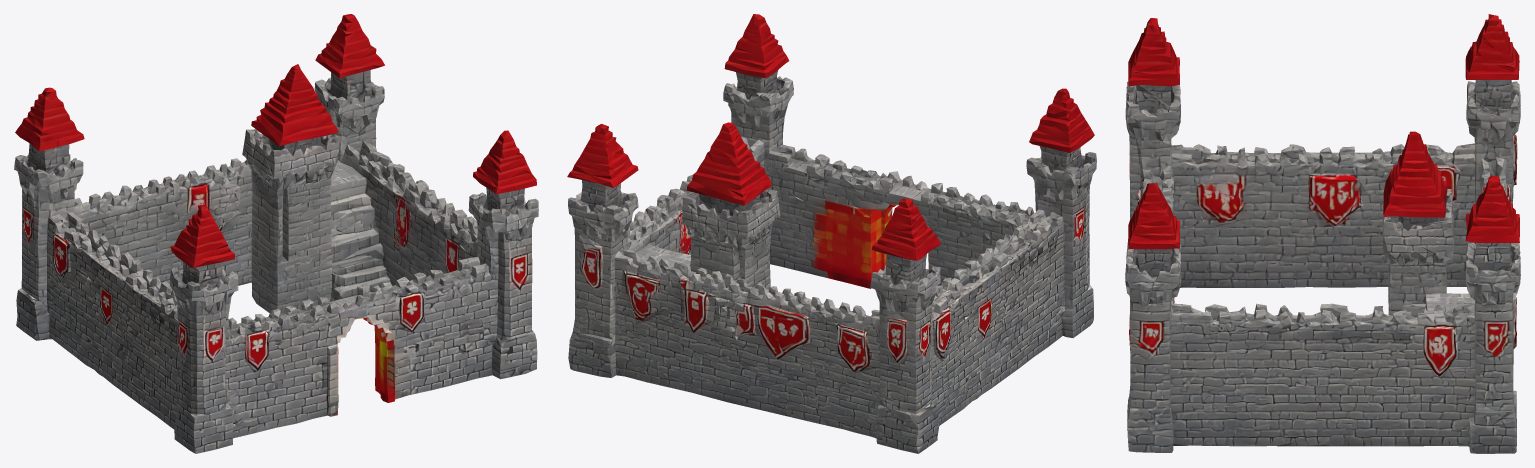
File: compound_red.glb
3 views of the same model, side by side, from view 1: azimuth 30°, elevation 25°; view 2: azimuth 150°, elevation 25°; view 3: azimuth 270°, elevation 25° (orthographic). The views are drawn at different scales.
Parts seen in each view (by area): view 1: Mesh; view 2: Mesh; view 3: Mesh.
Part boxes in pixels (<box>): Mesh: <box>14,14,538,453</box>; Mesh: <box>567,14,1096,453</box>; Mesh: <box>1125,14,1520,453</box>.
Bounding box in the file's own units: 1.9 × 1.25 × 1.68.
Materials: 1 (1 with a texture image).
